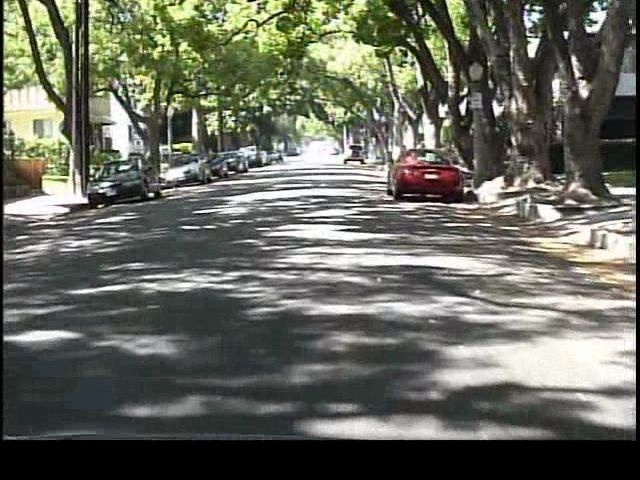person: (145, 144, 165, 185)
